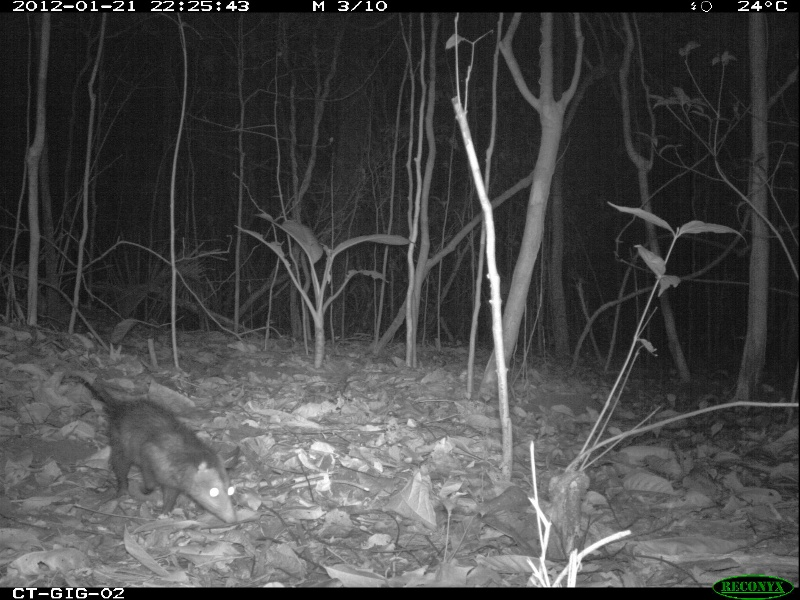opossum: (69, 369, 250, 531)
